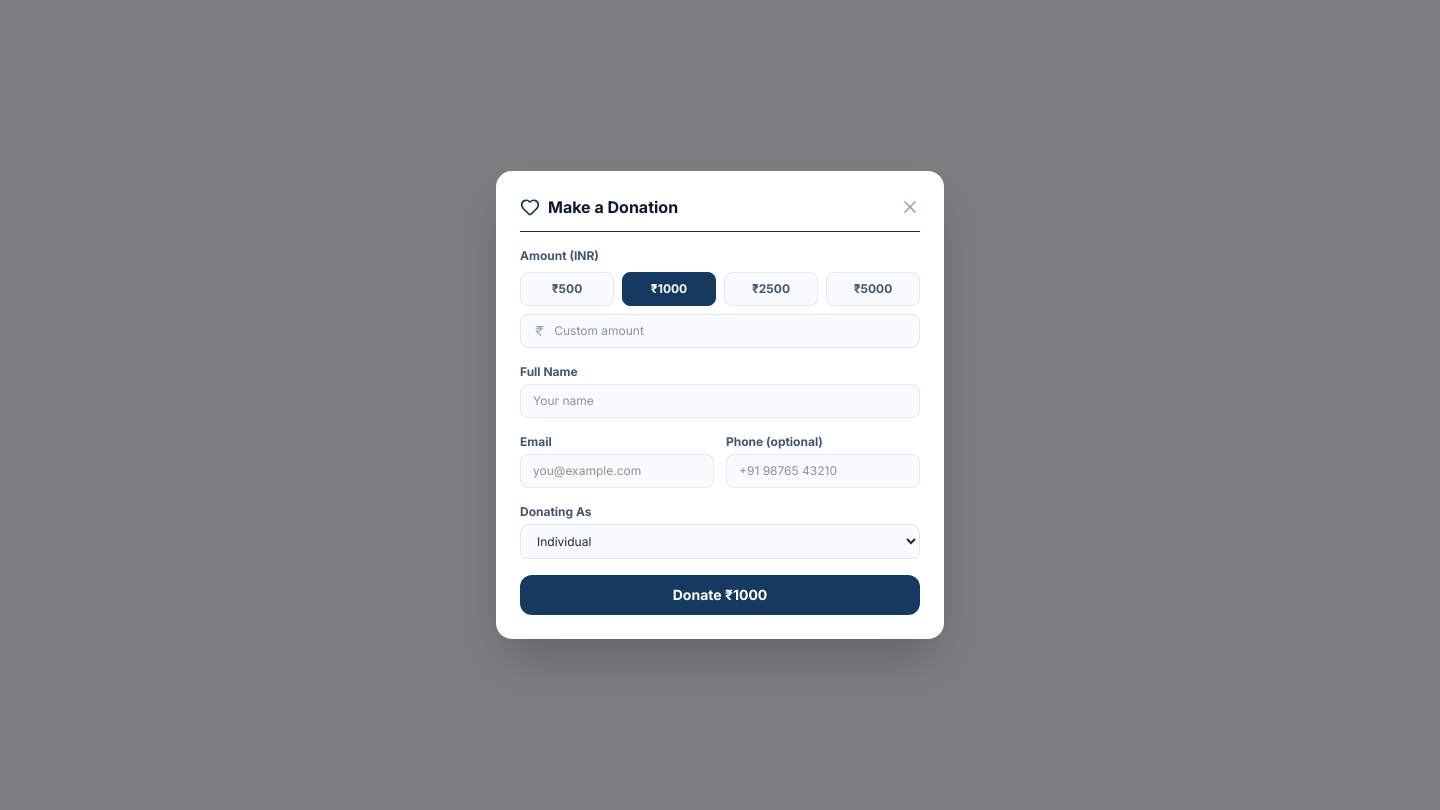
Scenario: DonateModal checkout flow › shows a payment-could-not-be-verified message when verification fails
Step 1. Type "Ananya Mehta" into the field with placeholder "Your name" → [720, 401], box 520,384 -> 920,418
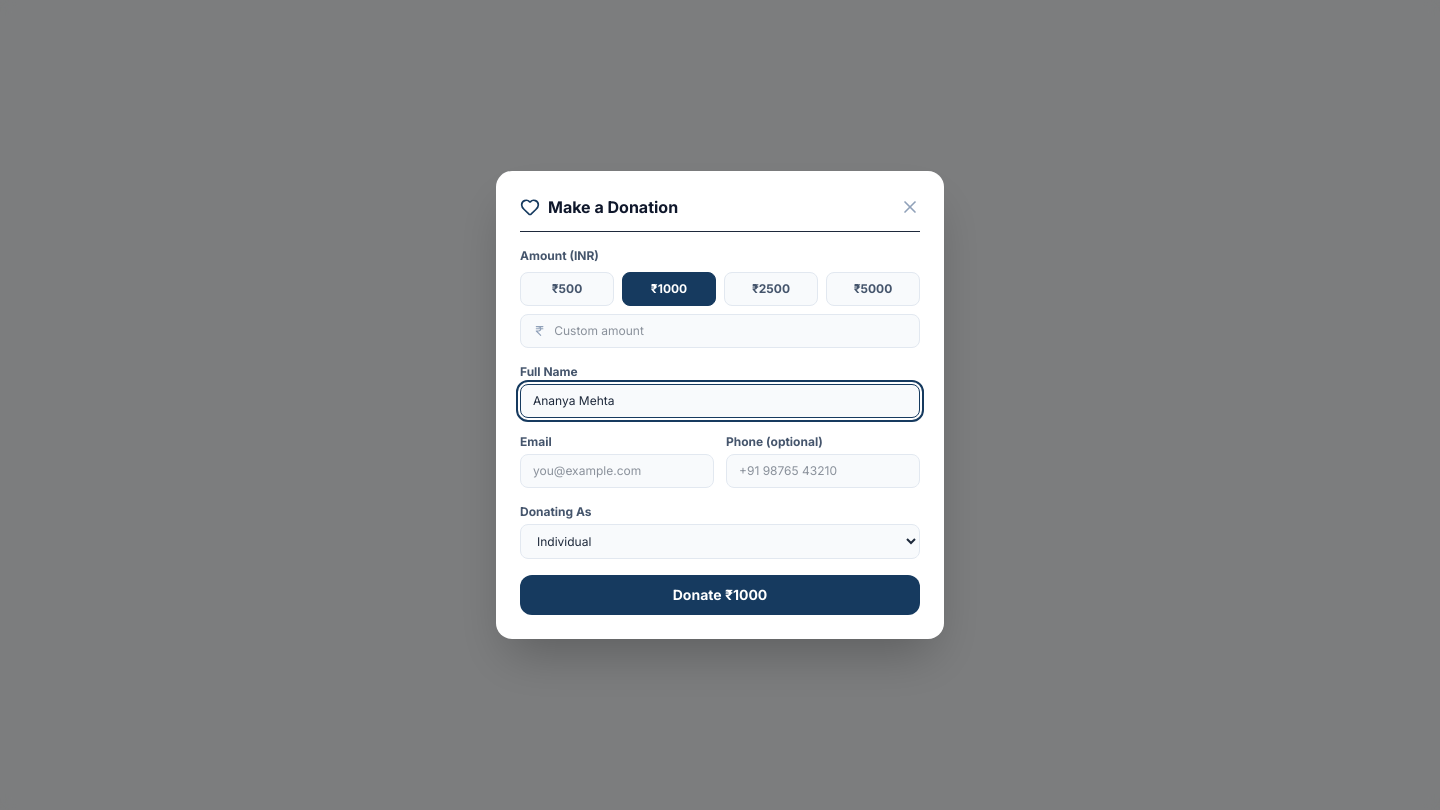
Step 2. Type "ananya@example.com" into the field with placeholder "you@example.com" → [617, 471], box 520,454 -> 714,488
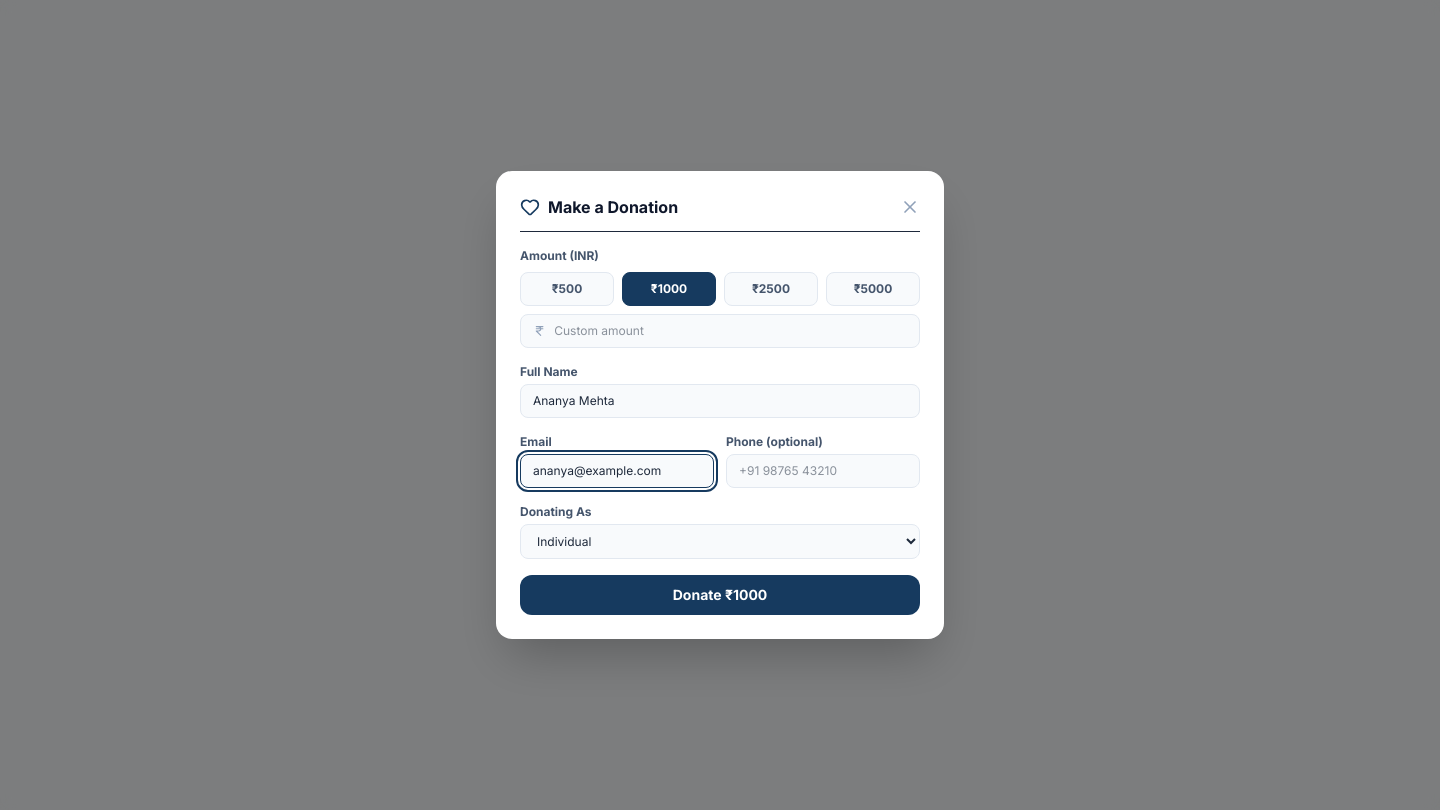
Step 3. Click the button "Donate ₹1000" → [720, 595], box 520,575 -> 920,615
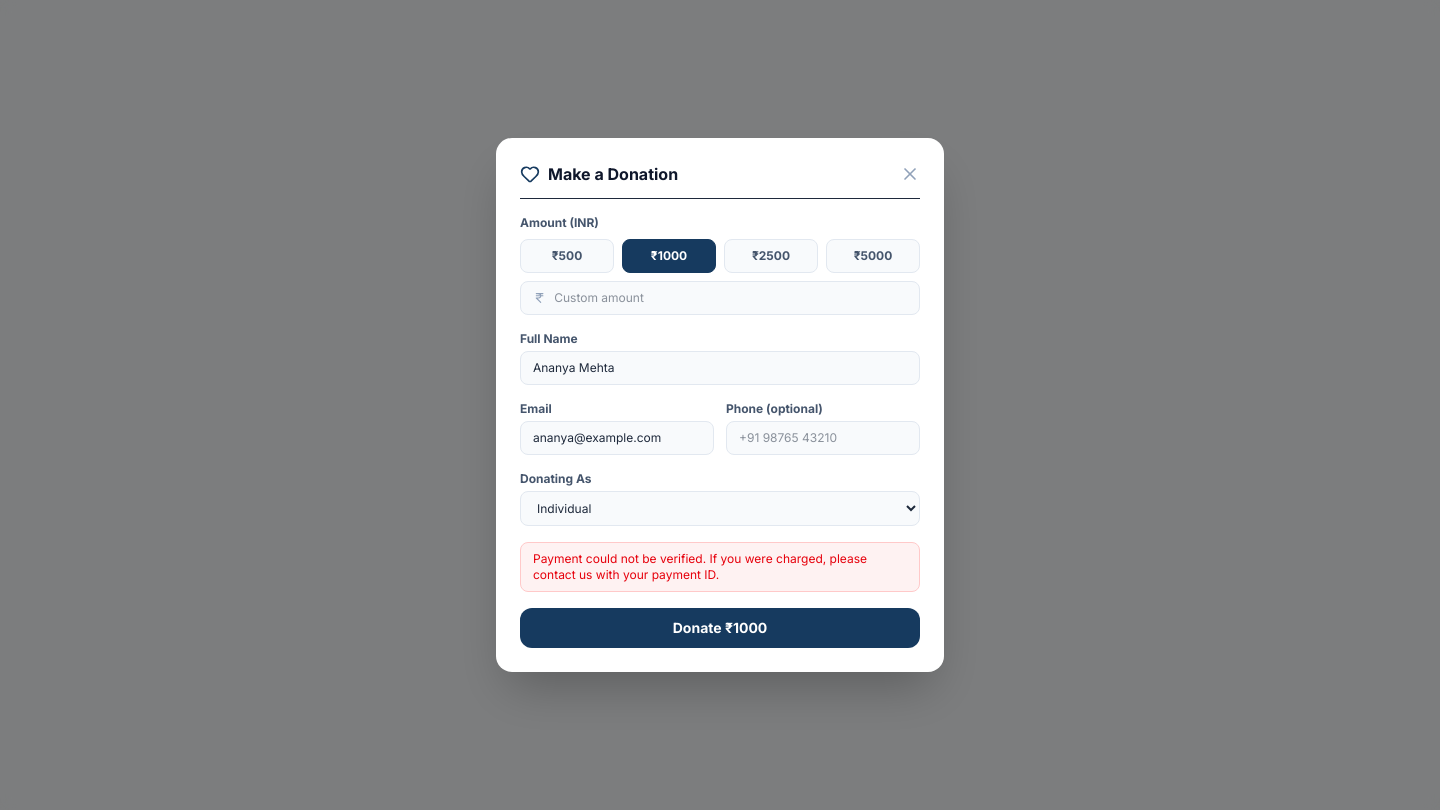
Expected: the text "Payment could not be verified" is shown, 533,551 -> 867,582
